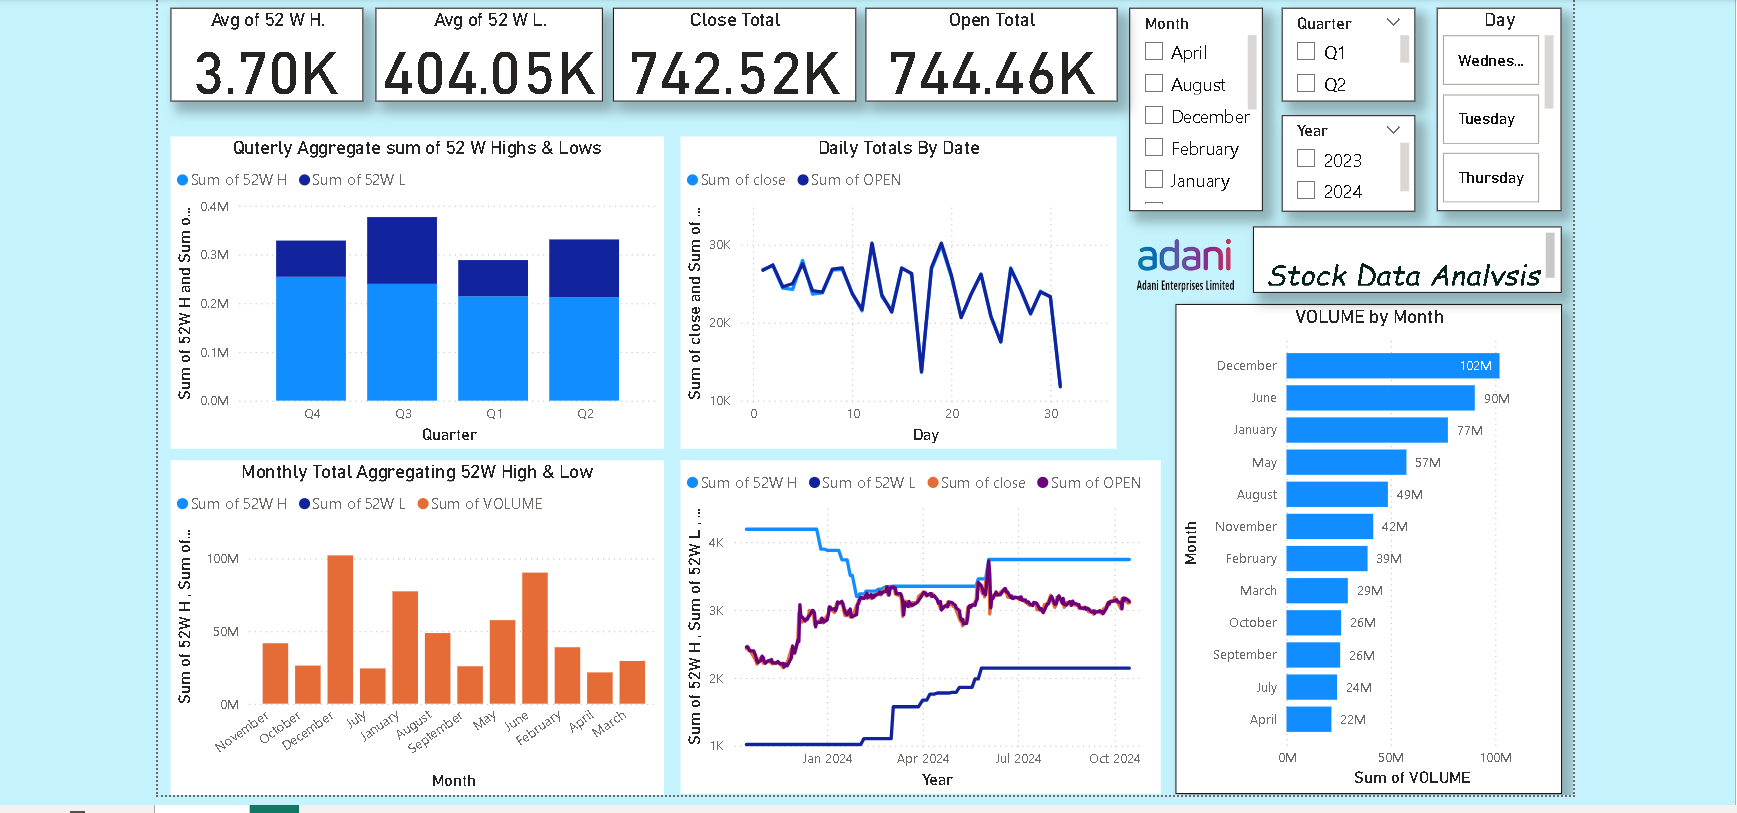

The dashboard page shown, as its layout file describes it:
{"tool":"powerbi","page":{"name":"Page 1","canvas":[1280,720],"ordinal":0},"visuals":[{"type":"advancedSlicerVisual","fields":{"Values":["Adani share analysis.Day"]},"box":[1157,8.1,112.8,183.7],"z":0},{"type":"slicer","fields":{"Values":["Adani share analysis.Month"]},"box":[879.1,8.1,120.9,183.7],"z":1000},{"type":"slicer","fields":{"Values":["Adani share analysis.Quarter"]},"box":[1016.5,7.9,121,84.8],"z":2000},{"type":"slicer","fields":{"Values":["Adani share analysis.Year"]},"box":[1016.3,104.7,120.9,87.2],"z":3000},{"type":"card","title":"Avg of 52 W H.","fields":{"Values":["Avg(Adani share analysis.52W H )"]},"box":[11.6,8.1,174.4,84.9],"z":4000},{"type":"card","title":"Avg of 52 W L.","fields":{"Values":["Sum(Adani share analysis.52W L )"]},"box":[196.5,8.1,205.8,84.9],"z":5000},{"type":"card","title":"Close Total","fields":{"Values":["Sum(Adani share analysis.close )"]},"box":[411.6,8.1,219.8,84.9],"z":6000},{"type":"card","title":"Open Total","fields":{"Values":["Sum(Adani share analysis.OPEN )"]},"box":[639.5,8.1,227.9,84.9],"z":7000},{"type":"columnChart","title":"Quterly Aggregate sum of 52 W Highs & Lows","fields":{"Y":["Sum(Adani share analysis.52W H )","Sum(Adani share analysis.52W L )"],"Category":["Adani share analysis.Quarter"]},"box":[11.3,124.4,446.6,282.7],"z":8000},{"type":"columnChart","title":"Monthly Total Aggregating 52W High & Low","fields":{"Y":["Sum(Adani share analysis.52W H )","Sum(Adani share analysis.52W L )","Sum(Adani share analysis.VOLUME )"],"Category":["Adani share analysis.Month"]},"box":[11.3,417.2,446.6,303],"z":9000},{"type":"lineChart","title":"Daily Totals By Date","fields":{"Category":["Adani share analysis.Date .Variation.Date Hierarchy.Day"],"Y":["Sum(Adani share analysis.close )","Sum(Adani share analysis.OPEN )"]},"box":[472.6,124.4,394.6,282.7],"z":10000},{"type":"lineChart","fields":{"Y":["Sum(Adani share analysis.52W H )","Sum(Adani share analysis.52W L )","Sum(Adani share analysis.close )","Sum(Adani share analysis.OPEN )"],"Category":["Adani share analysis.Date .Variation.Date Hierarchy.Year","Adani share analysis.Date .Variation.Date Hierarchy.Quarter","Adani share analysis.Date .Variation.Date Hierarchy.Month","Adani share analysis.Date .Variation.Date Hierarchy.Day"]},"box":[472.6,417.2,434.2,301.9],"z":11000},{"type":"clusteredBarChart","title":" VOLUME  by Month","fields":{"Category":["Adani share analysis.Month"],"Y":["Sum(Adani share analysis.VOLUME )"]},"box":[920.4,275.9,349.4,443.2],"z":12000},{"type":"textbox","box":[990.5,205.8,279.3,59.9],"z":13000},{"type":"image","box":[878.5,177.5,102.9,117.6],"z":14000}]}

Visuals, with their boxes on the page's 1280x720 design canvas (x1, y1, x2, y2). These are canvas units, not pixel positions in the 1737x813 screenshot, which may show the page scaled, cropped or inside an application window:
advancedSlicerVisual - Adani share analysis.Day: 1157:8:1270:192
slicer - Adani share analysis.Month: 879:8:1000:192
slicer - Adani share analysis.Quarter: 1016:8:1138:93
slicer - Adani share analysis.Year: 1016:105:1137:192
"Avg of 52 W H." card: 12:8:186:93
"Avg of 52 W L." card: 196:8:402:93
"Close Total" card: 412:8:631:93
"Open Total" card: 640:8:867:93
"Quterly Aggregate sum of 52 W Highs & Lows" columnChart: 11:124:458:407
"Monthly Total Aggregating 52W High & Low" columnChart: 11:417:458:720
"Daily Totals By Date" lineChart: 473:124:867:407
lineChart - Sum(Adani share analysis.52W H ) x Sum(Adani share analysis.52W L ): 473:417:907:719
" VOLUME  by Month" clusteredBarChart: 920:276:1270:719
textbox: 990:206:1270:266
image: 878:178:981:295
